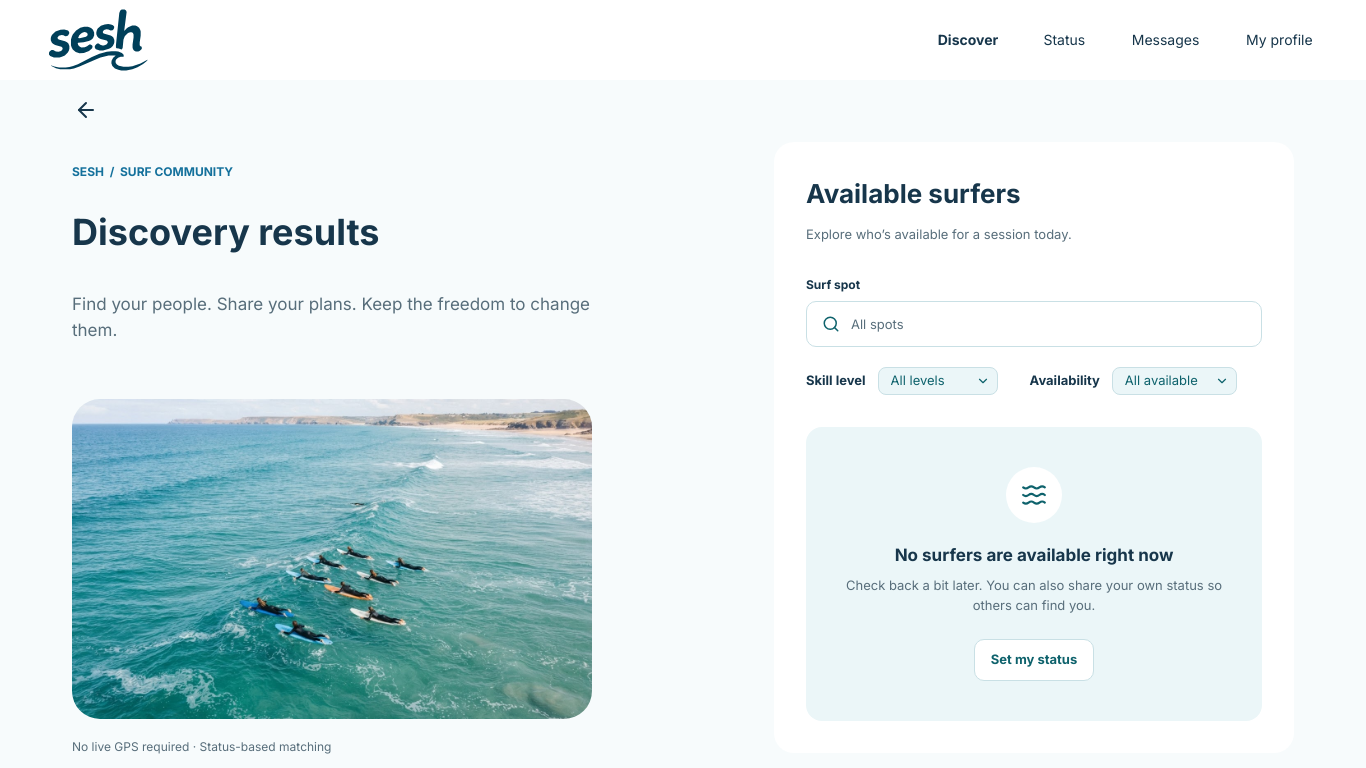
Scenario: surf spot filter (searchable) › clicking the field lists every spot for browsing, All spots first and selected
Expected: the heading "Available surfers" is shown, [806, 178, 1021, 209]
Click the dropdown labelled "Surf spot" at (1034, 324), box [806, 300, 1262, 346]
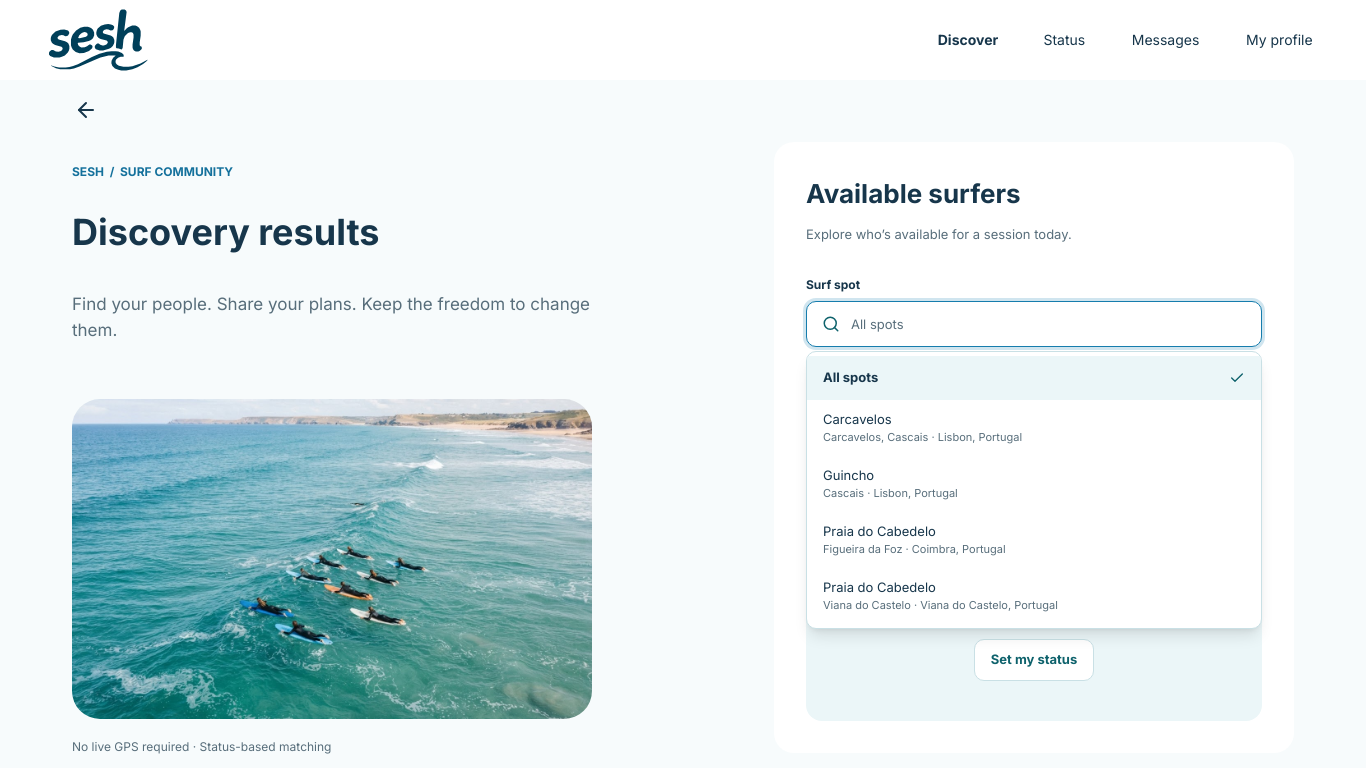
Now the 5th option is shown, box [823, 578, 1058, 612]
